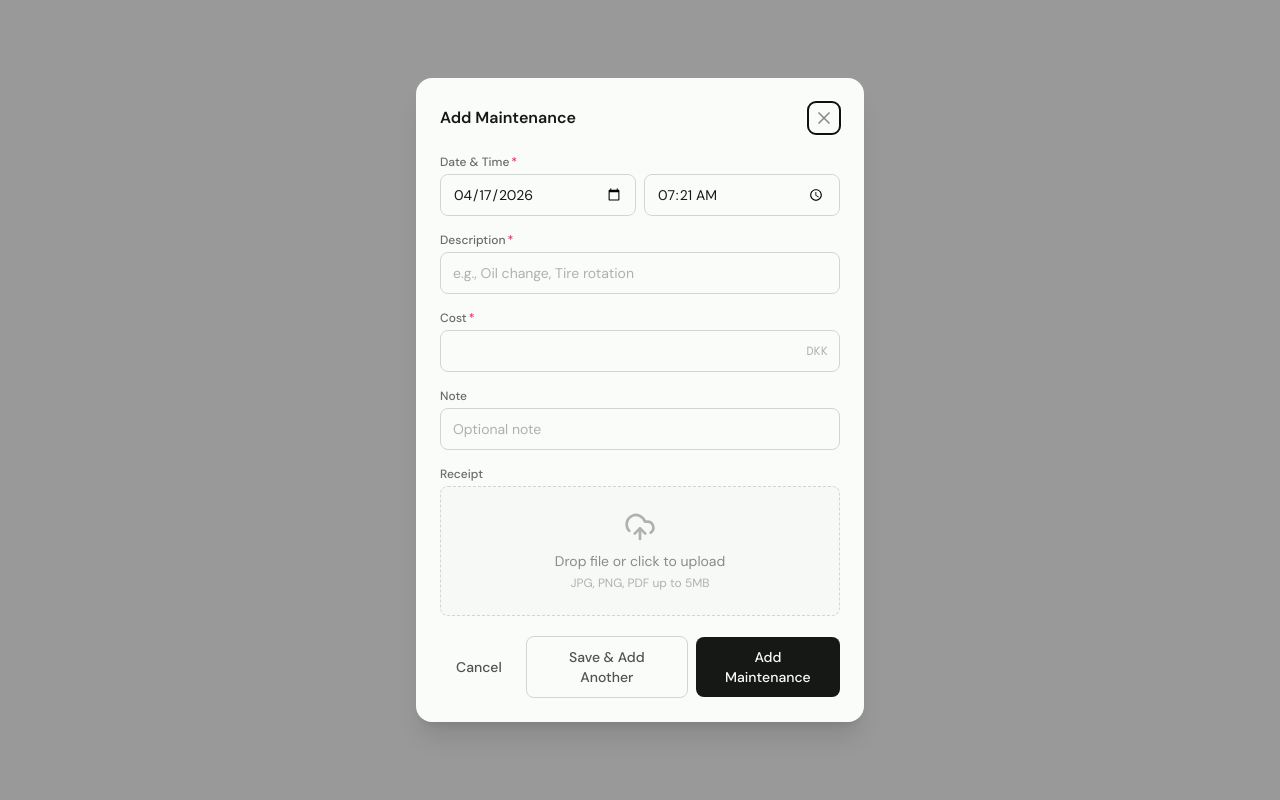
Test: MaintenanceDialog › Validation › shows error when description is empty on submit
This screenshot has width=1280, height=800.
What coordinates should you click on to do the following:
click the button "Add Maintenance"
I would click on:
 (768, 667)
Its box is [696, 637, 840, 697].
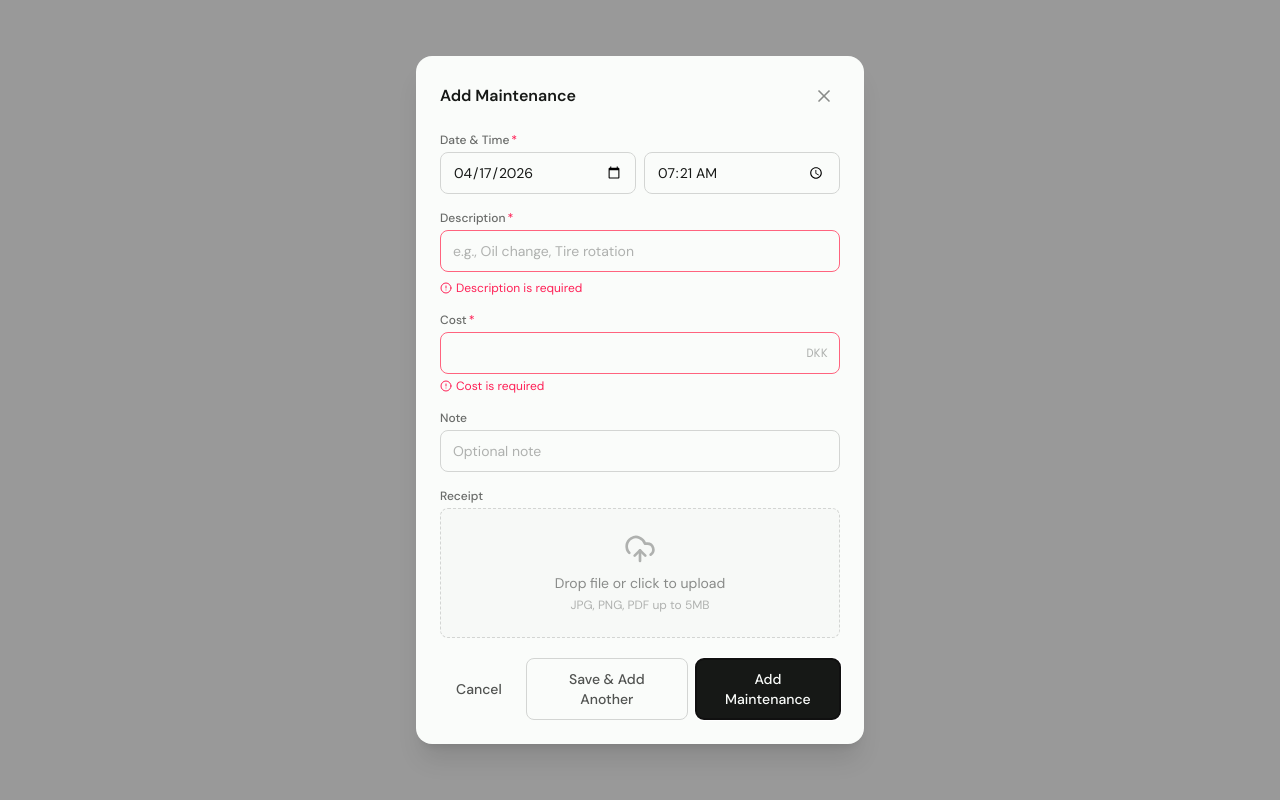
Expected: the text "Description is required" is shown, [440, 280, 582, 296]
